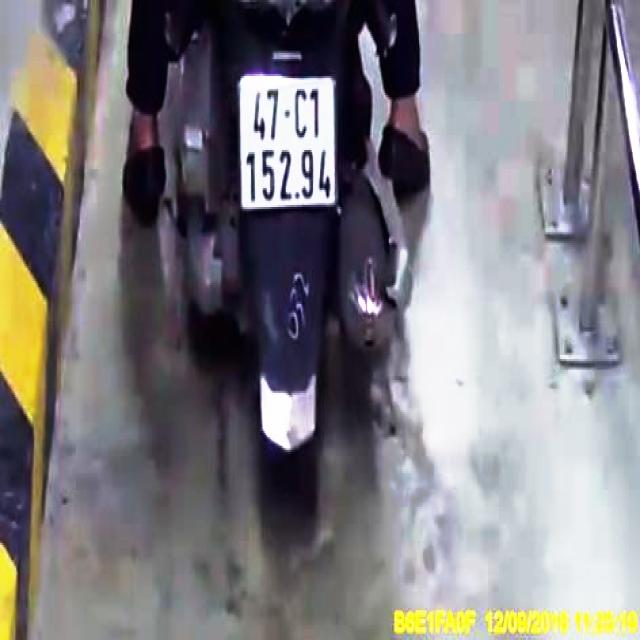license_plate: (241, 78, 338, 206)
